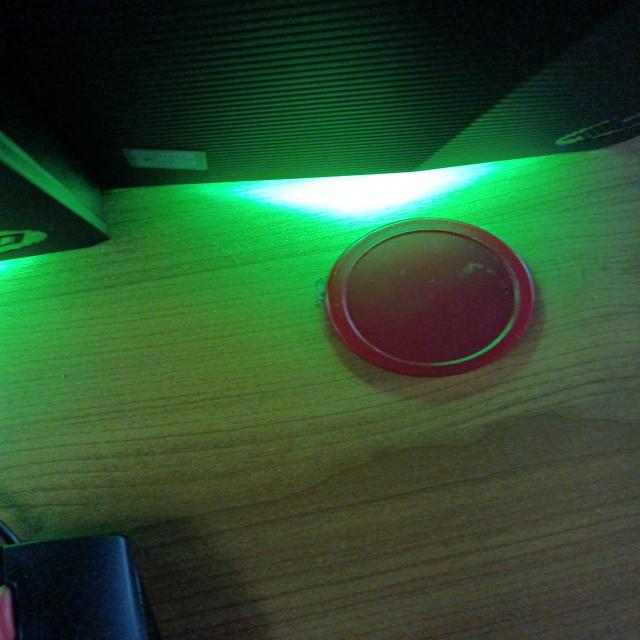chip: (321, 218, 534, 376)
